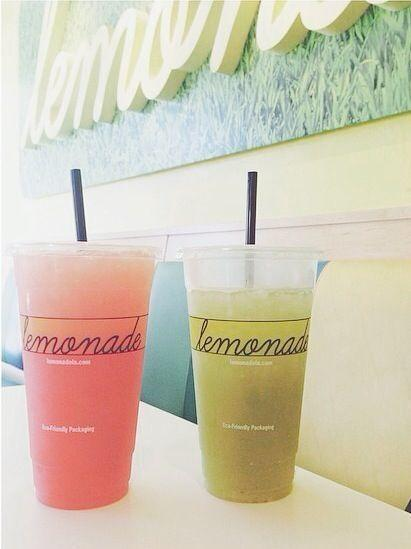cup-disposable: (9, 238, 158, 509), (182, 243, 321, 502)
